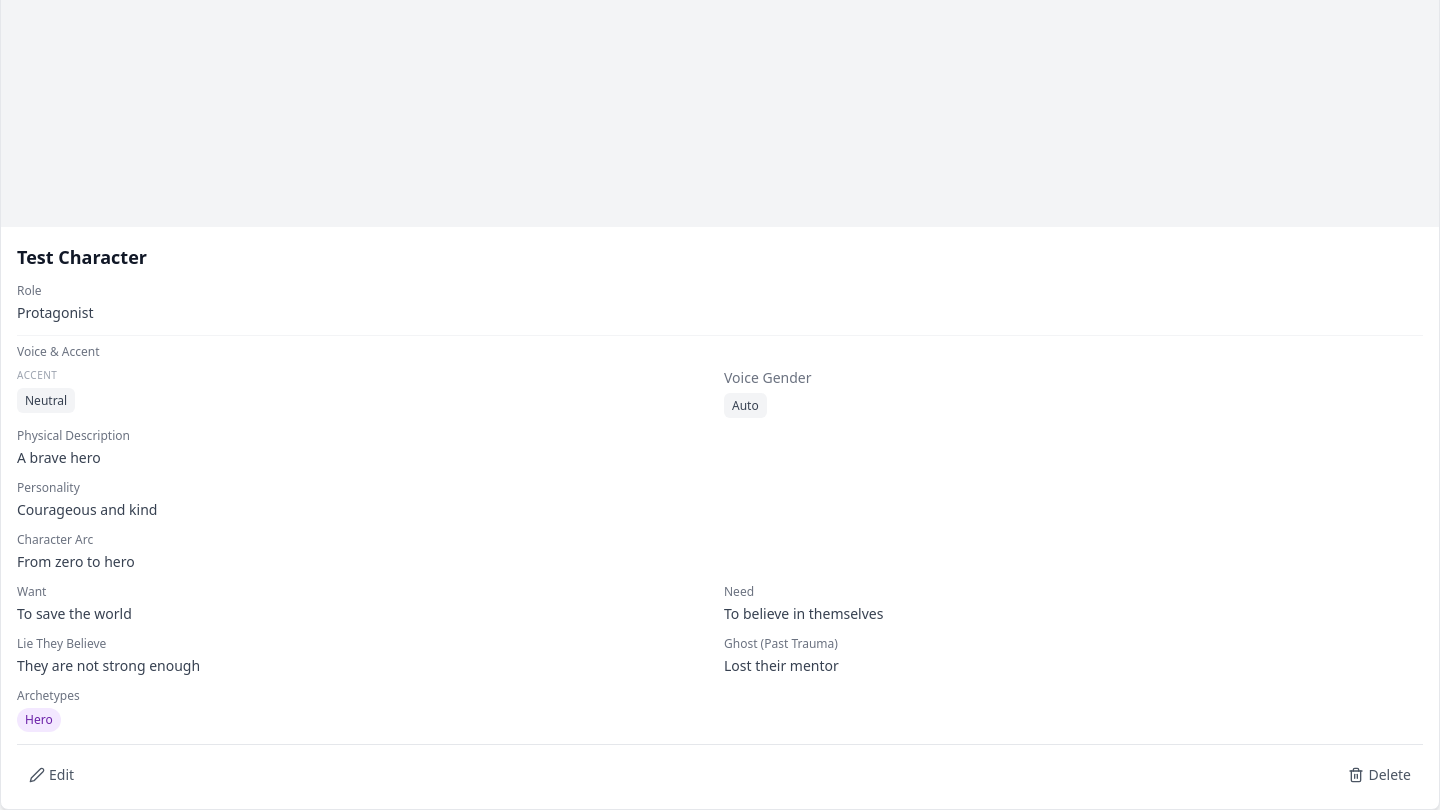
CharacterCard - Add Archetype Modal › shows validation error when trying to add empty archetype name
(page scrolled)
// Enter edit mode
Click the button "Edit" at (52, 775), box [17,757,86,793]
(page scrolled)
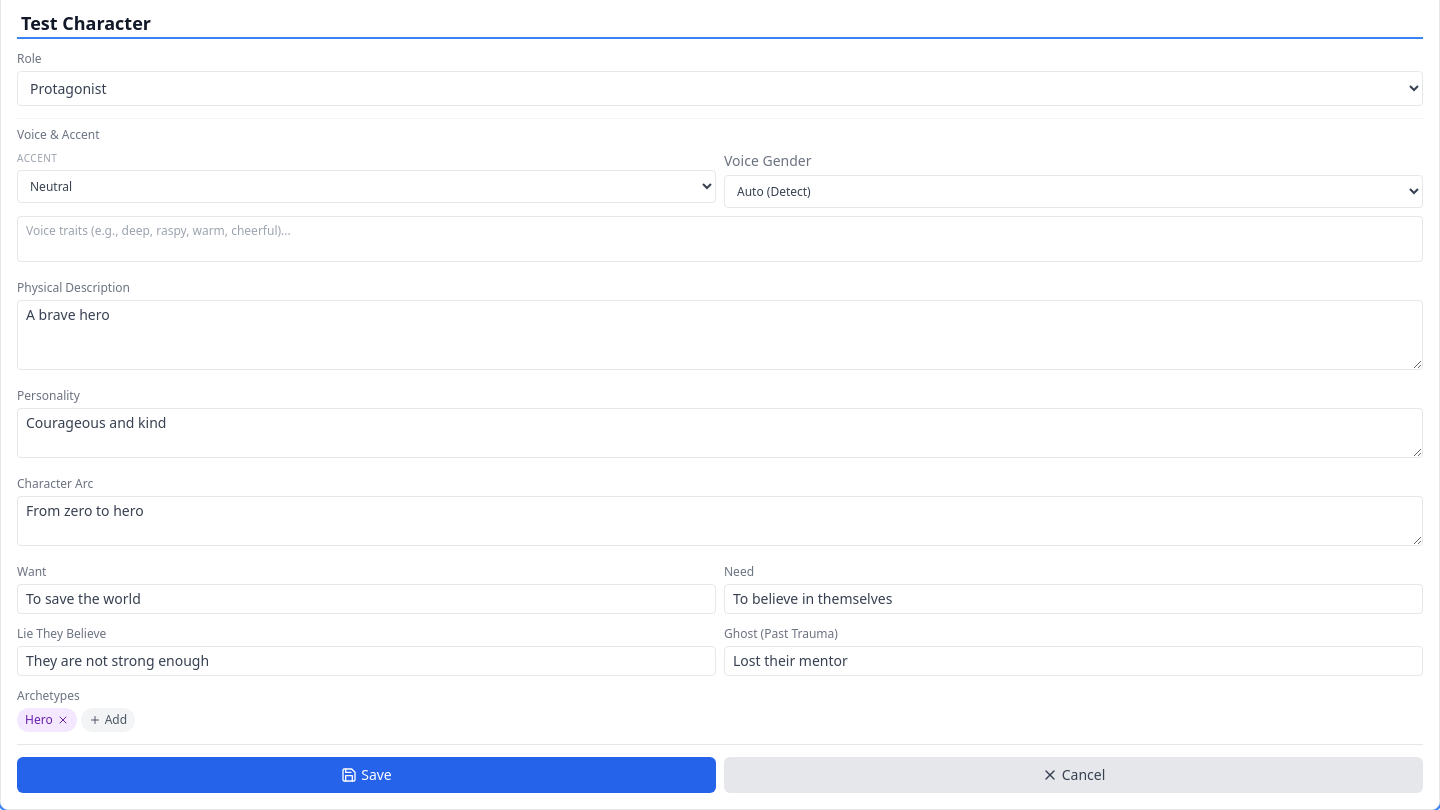
// Open modal
Click the button "Add" at (108, 720), box [81,708,135,732]
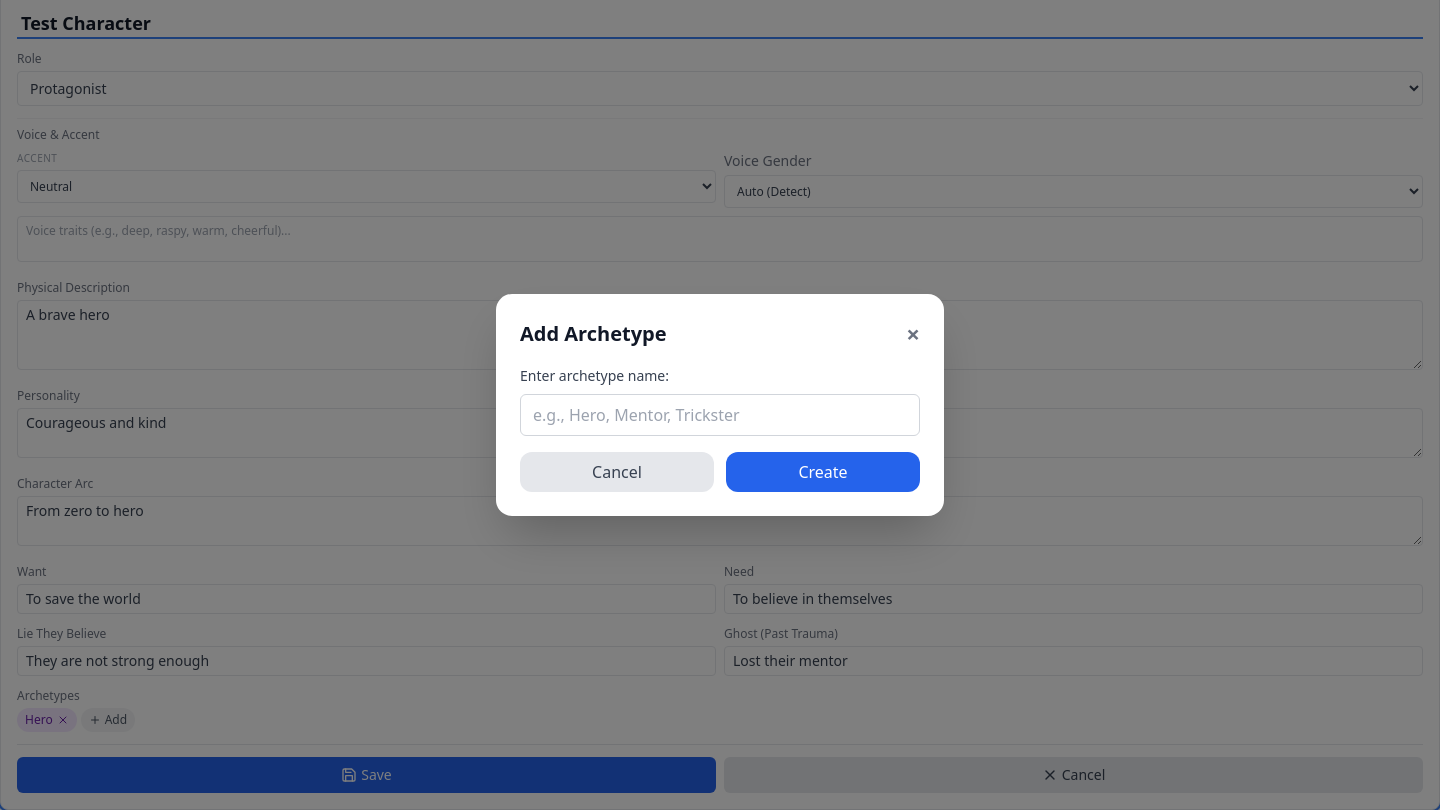
// Click Create without entering a name
Click the button "Create" at (823, 472), box [726,452,920,492]
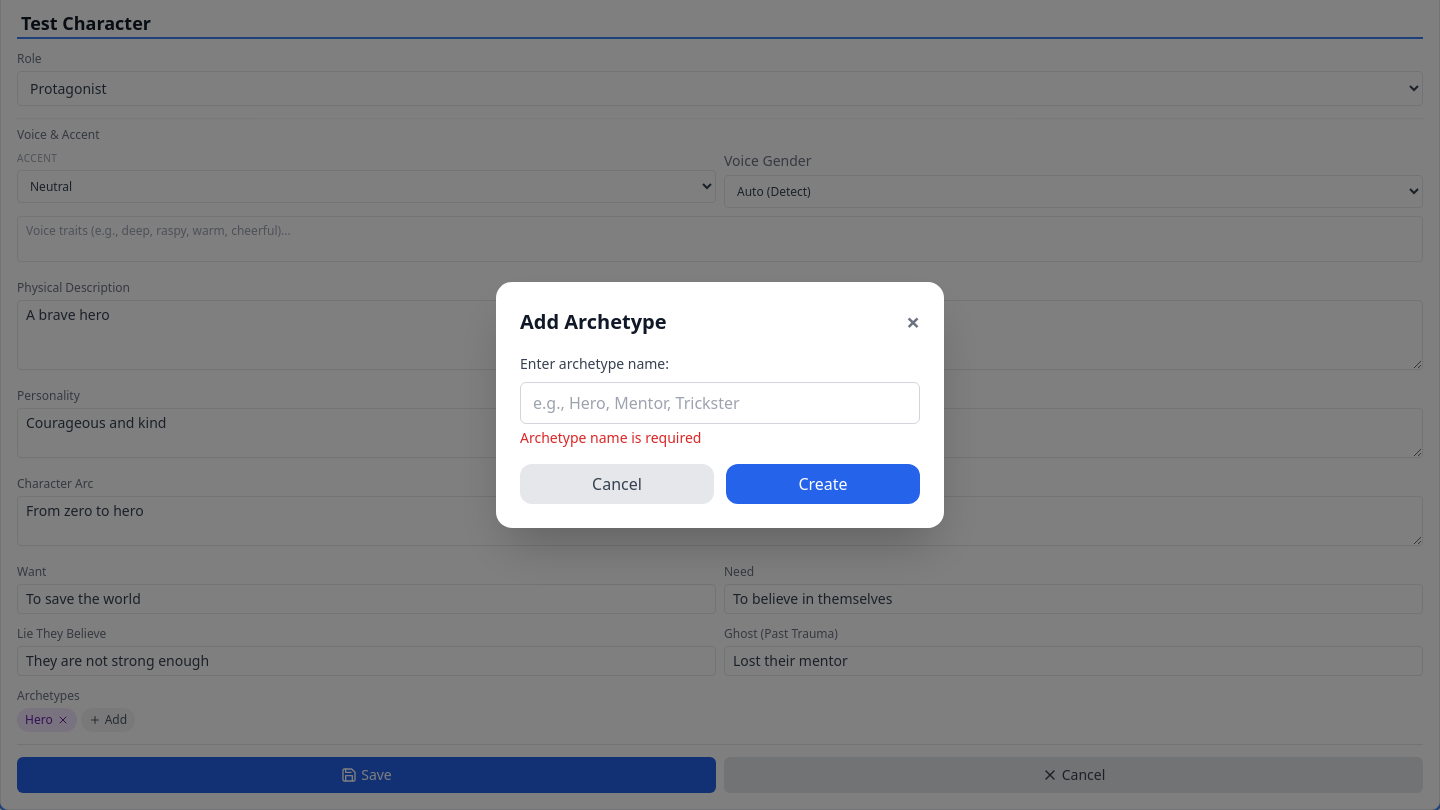
Expected: the heading "Add Archetype" is shown, [520,308,667,336]
Expected: the text "Archetype name is required" is shown, [520,428,701,447]
